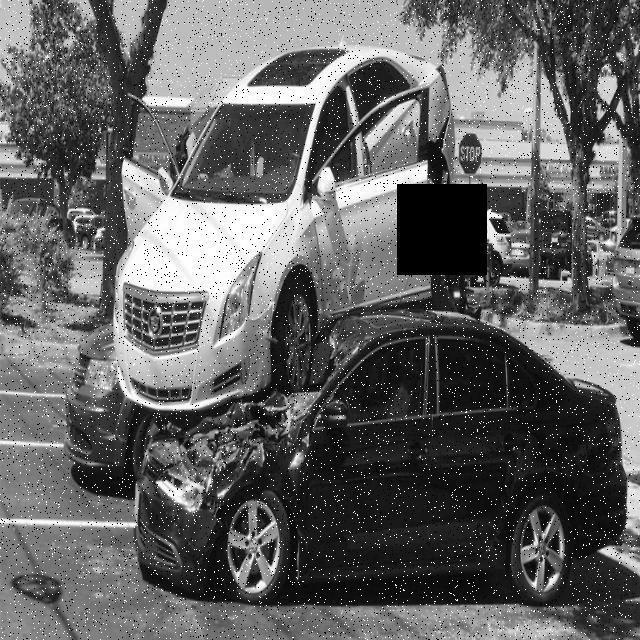accident: (63, 21, 630, 589)
vehicle: (12, 191, 74, 255), (612, 218, 640, 332), (560, 233, 607, 283), (486, 205, 515, 268), (76, 213, 112, 253), (509, 228, 529, 272)
